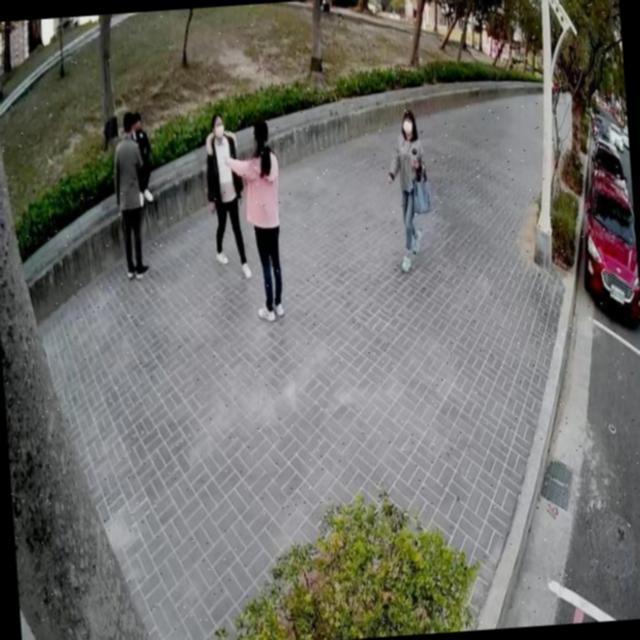person: (217, 101, 290, 326), (380, 104, 437, 275), (198, 107, 253, 284), (106, 104, 152, 280), (128, 106, 158, 210)
